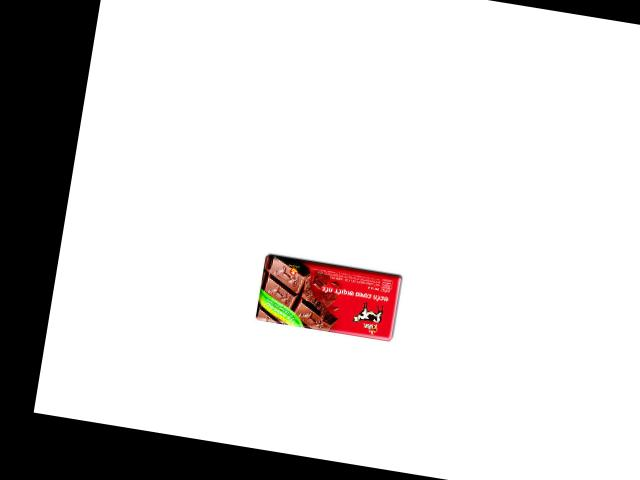chocolate: (254, 247, 407, 344)
